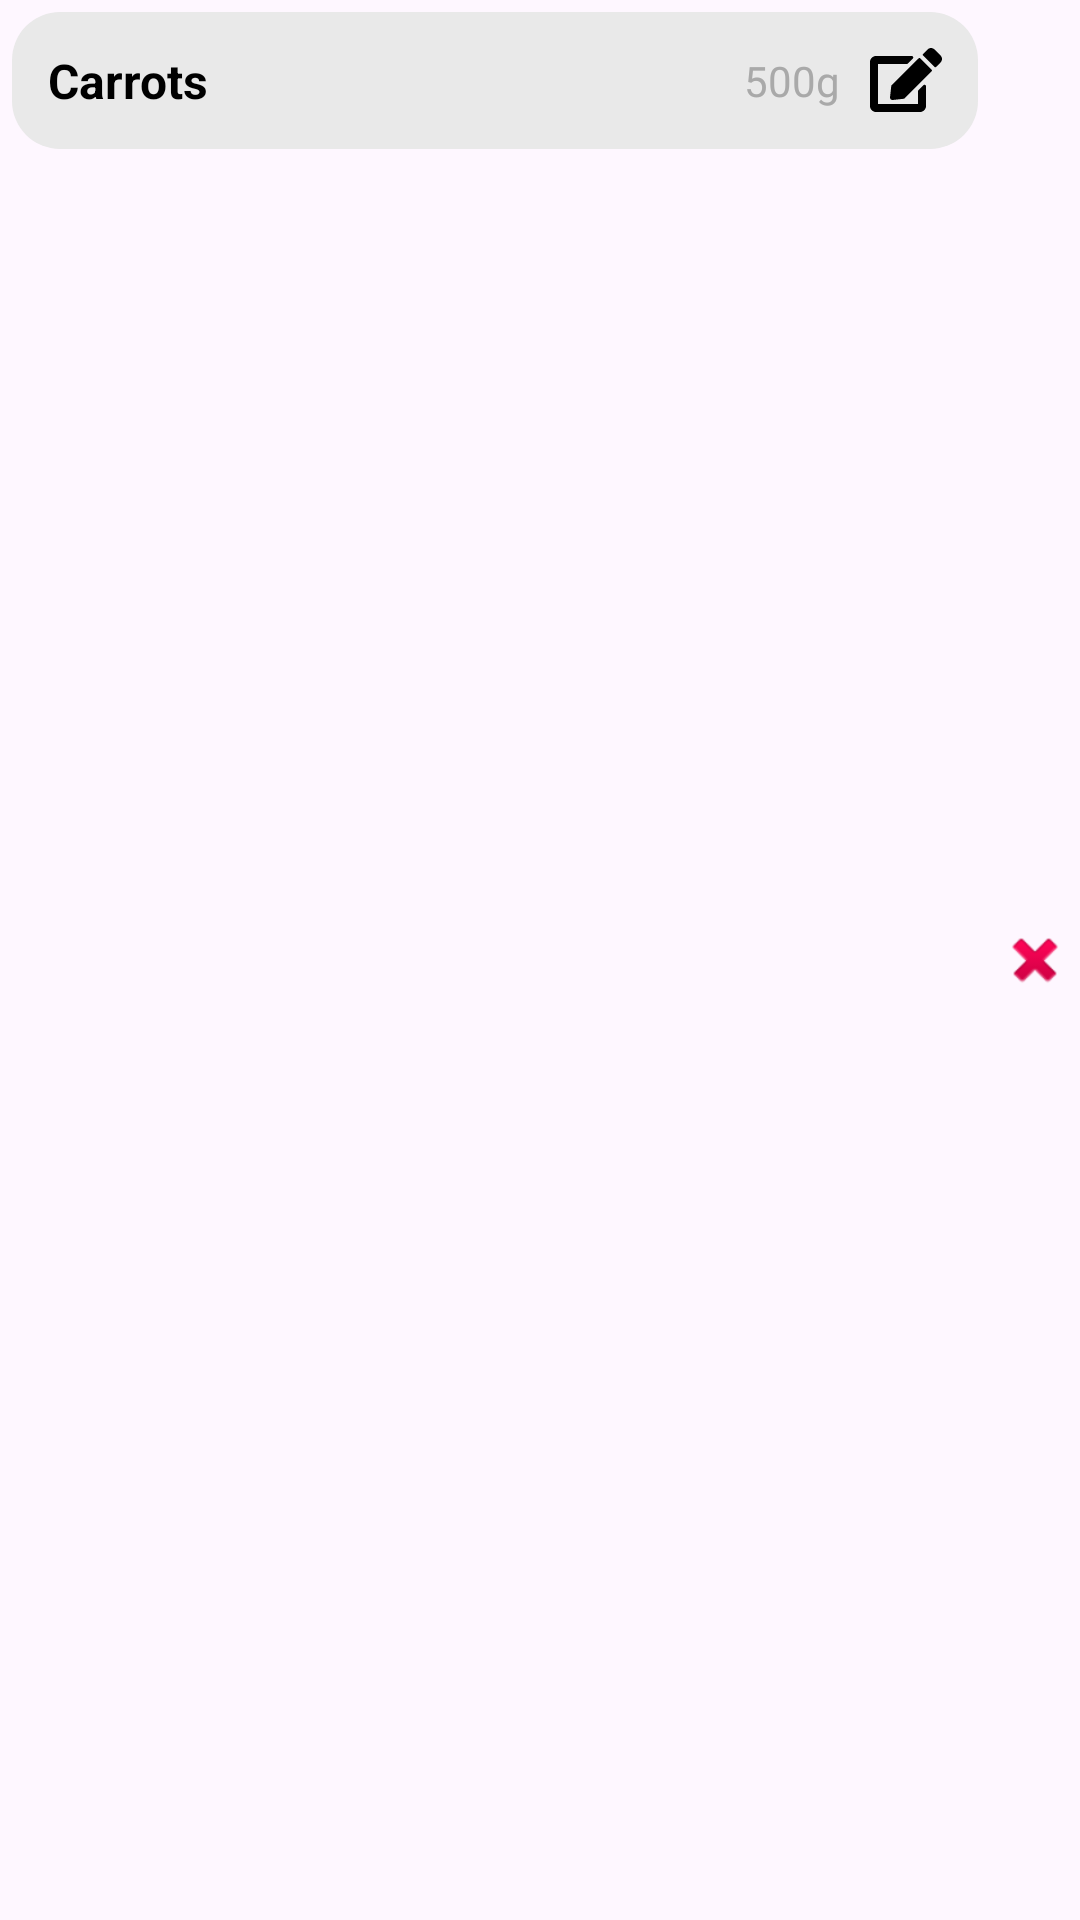

Named icons in this screenshot (1080px x 1920px) and their bounding boxes, bbox(x1, y1, x2, y2):
delete: bbox(1012, 938, 1058, 982)
edit: bbox(870, 48, 942, 112)
